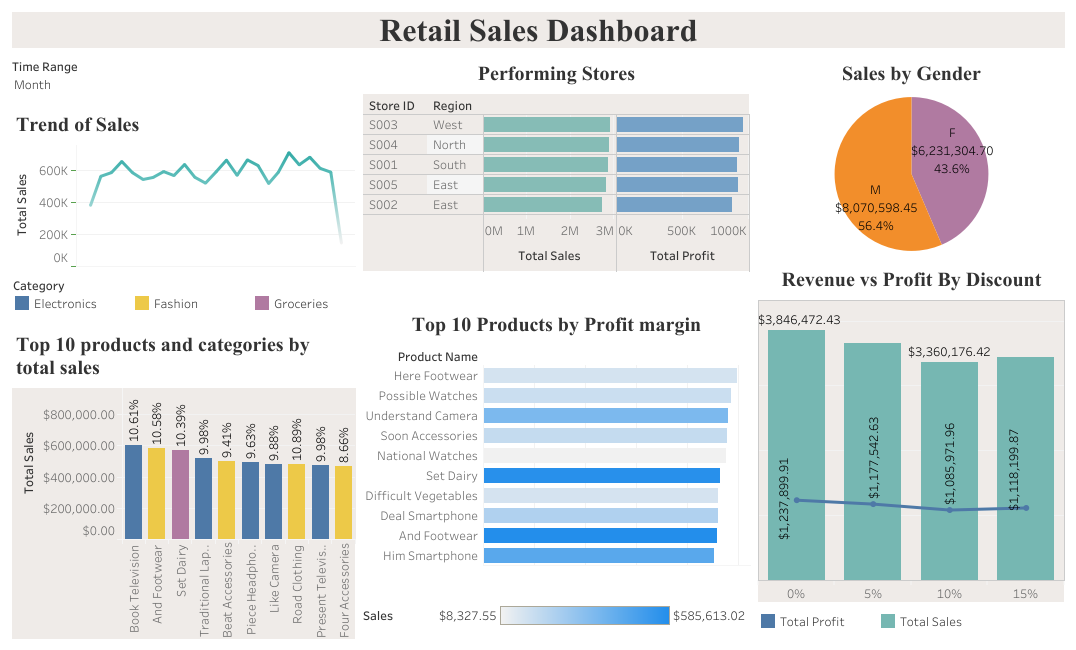

The dashboard page shown, as its layout file describes it:
{"tool":"tableau","page":{"name":"Retail Sales Dashboard ","canvas":[1000,1000],"units":"permille","ordinal":0},"visuals":[{"type":"parameter","param":"[Parameters].[Parameter 1]","box":[6.5,12.3,343.9,84.3]},{"type":"worksheet","title":"Best performing stores","mark":"Automatic","rows":["StoreID","Region"],"cols":["Calculation_1397804793468616704","Calculation_1397804793869438981"],"box":[350.4,12.3,387,392.9]},{"type":"worksheet","title":"Sales by Gender","mark":"Pie","box":[737.4,12.3,256.1,317.4]},{"type":"worksheet","title":"Trend of Sales","mark":"Line","rows":["Calculation_1397804793468616704"],"cols":["Calculation_1397804793862959108"],"box":[6.5,96.6,343.9,277.8]},{"type":"worksheet","title":"Revenue vs Profit","mark":"Bar","rows":["Calculation_1397804793468616704","Calculation_1397804793869438981"],"cols":["Discount"],"box":[737.4,329.7,256.1,602.5]},{"type":"legend","title":"TOP PRODUCTS","param":"[federated.1pff0w90h4b22z1620hae1li4lmz].[none:Category:nk]","box":[6.5,374.4,343.9,84.9]},{"type":"worksheet","title":"Top Products by Profit Margin ","mark":"Automatic","rows":["ProductName"],"cols":["Calculation_1397804794124070929"],"box":[350.4,405.2,387,508.5]},{"type":"worksheet","title":"TOP PRODUCTS","mark":"Automatic","rows":["Calculation_1397804793468616704"],"cols":["ProductName"],"box":[6.5,459.3,343.9,528.4]},{"type":"legend","title":"Top Products by Profit Margin ","param":"[federated.1pff0w90h4b22z1620hae1li4lmz].[sum:Calculation_1397804794117763084:qk","box":[350.4,913.7,387,74]},{"type":"legend","title":"Revenue vs Profit","param":"[federated.1pff0w90h4b22z1620hae1li4lmz].[:Measure Names]","box":[737.4,932.2,256.1,55.5]}]}

Visuals, with their boxes on the dashboard's canvas, which has no fixed pixel size, in thousandths of its width and height (x1, y1, x2, y2). These are canvas units, not pixel positions in the 1076x650 screenshot, which may show the page scaled, cropped or inside an application window:
parameter: 6/12/350/97
"Best performing stores" worksheet: 350/12/737/405
"Sales by Gender" worksheet (Pie marks): 737/12/994/330
"Trend of Sales" worksheet (Line marks): 6/97/350/374
"Revenue vs Profit" worksheet (Bar marks): 737/330/994/932
"TOP PRODUCTS" legend: 6/374/350/459
"Top Products by Profit Margin " worksheet: 350/405/737/914
"TOP PRODUCTS" worksheet: 6/459/350/988
"Top Products by Profit Margin " legend: 350/914/737/988
"Revenue vs Profit" legend: 737/932/994/988
